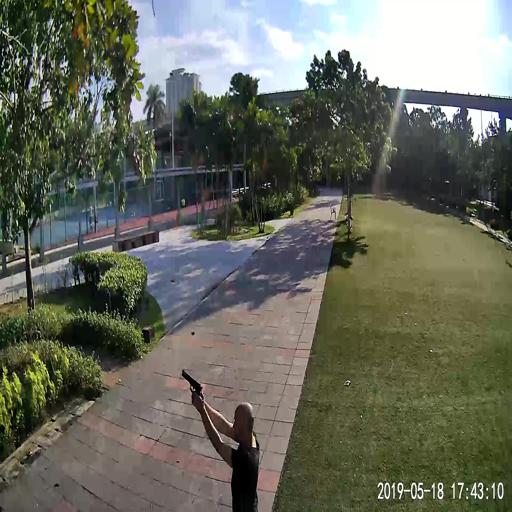pistol: (180, 366, 202, 396)
